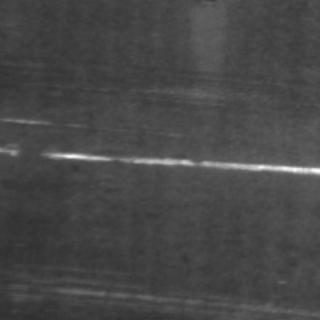scratches: (41, 146, 316, 178)
